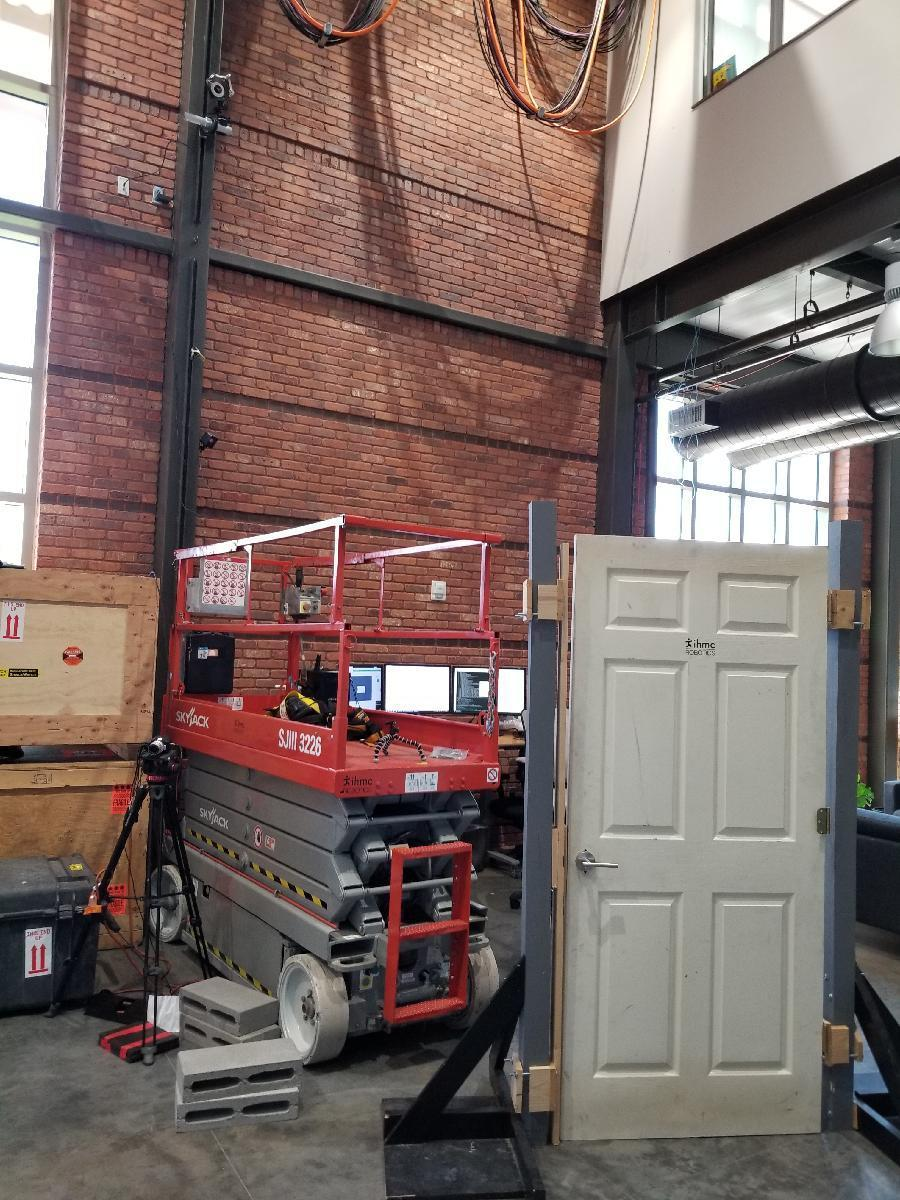door: (578, 538, 823, 1131)
handle: (569, 848, 623, 880)
